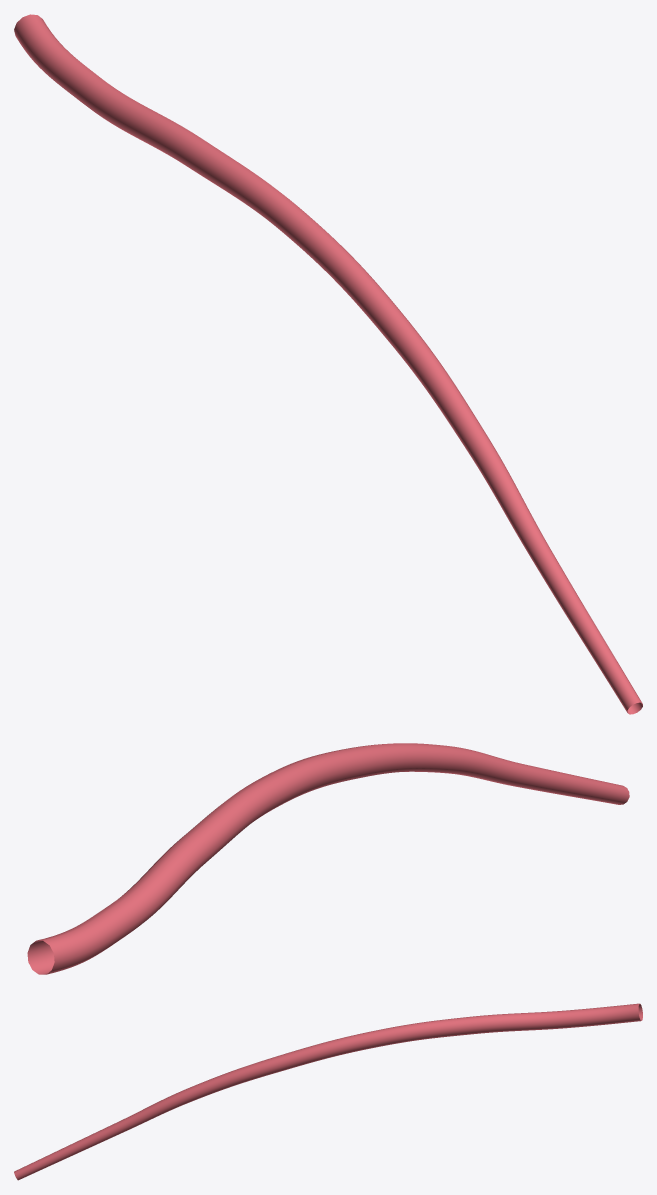
The picture shows the model from 3 angles, top to bottom: view 1: azimuth 30°, elevation 25°; view 2: azimuth 150°, elevation 25°; view 3: azimuth 270°, elevation 25°; orthographic projection. The views are drawn at different scales.
Visible parts, largest first — view 1: ZA_ebb55c31dab9c509; view 2: ZA_ebb55c31dab9c509; view 3: ZA_ebb55c31dab9c509.
Boxes of the visible parts, x1,y1,x2,y2 form: ZA_ebb55c31dab9c509: [14, 14, 642, 714]; ZA_ebb55c31dab9c509: [27, 743, 629, 974]; ZA_ebb55c31dab9c509: [14, 1003, 642, 1180].
Size of the model in its own units: 0.00473 by 0.0184 by 0.0636.
